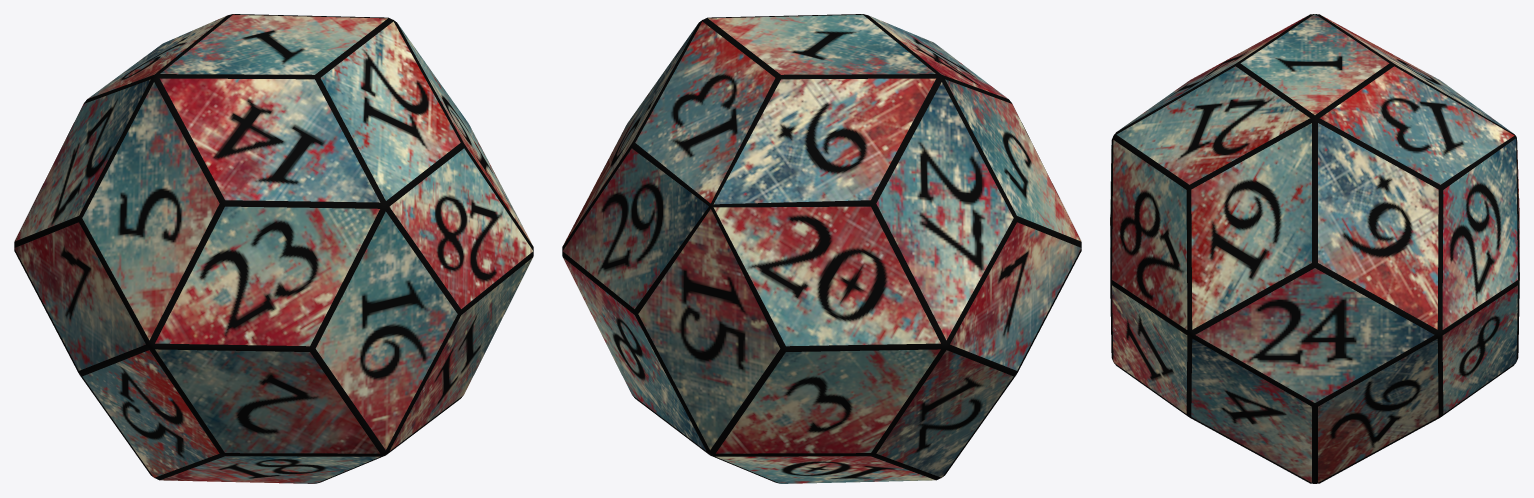
The model's file is chanced30.glb.
3 renders of one model, left to right at view 1: azimuth 30°, elevation 25°; view 2: azimuth 150°, elevation 25°; view 3: azimuth 270°, elevation 25°, orthographic. The views are drawn at different scales.
Visible parts, largest first — view 1: Mesh_0; view 2: Mesh_0; view 3: Mesh_0.
Boxes of the visible parts, bbox=[...] form: Mesh_0: bbox=[14, 14, 533, 483]; Mesh_0: bbox=[562, 14, 1081, 483]; Mesh_0: bbox=[1110, 14, 1519, 483].
Bounding box in the file's own units: 185 × 185 × 185.
1 material, 1 textured.
